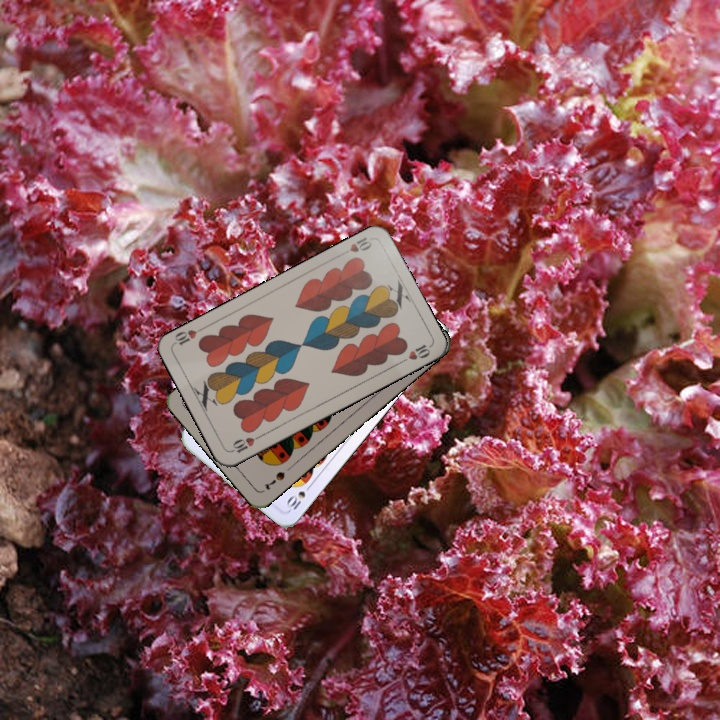H10: (228, 430, 265, 456), (337, 233, 374, 258)
S10: (282, 479, 315, 512)
S7: (260, 467, 288, 492)
